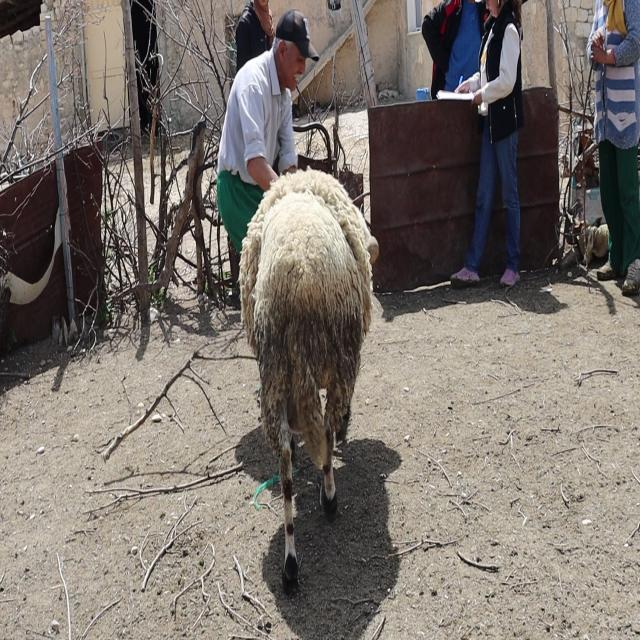Score_5: (239, 170, 378, 592)
